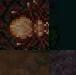spider: (0, 0, 49, 50)
